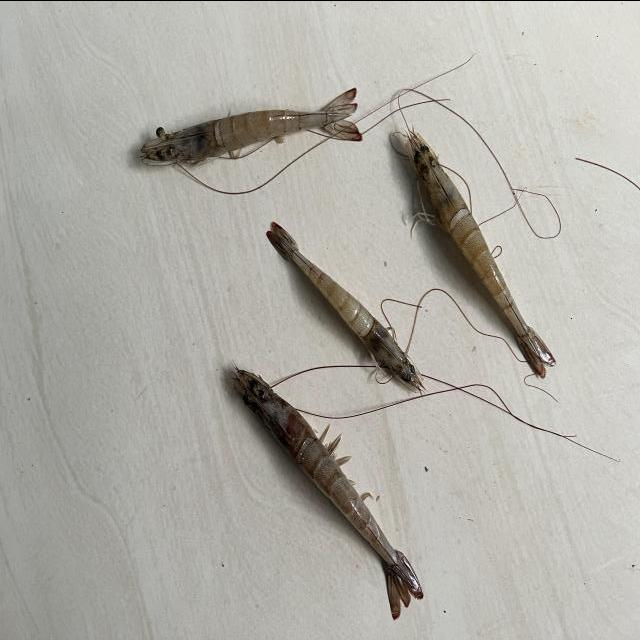shrimp: (233, 369, 424, 620), (406, 130, 556, 378), (267, 221, 424, 391), (140, 87, 362, 164)
